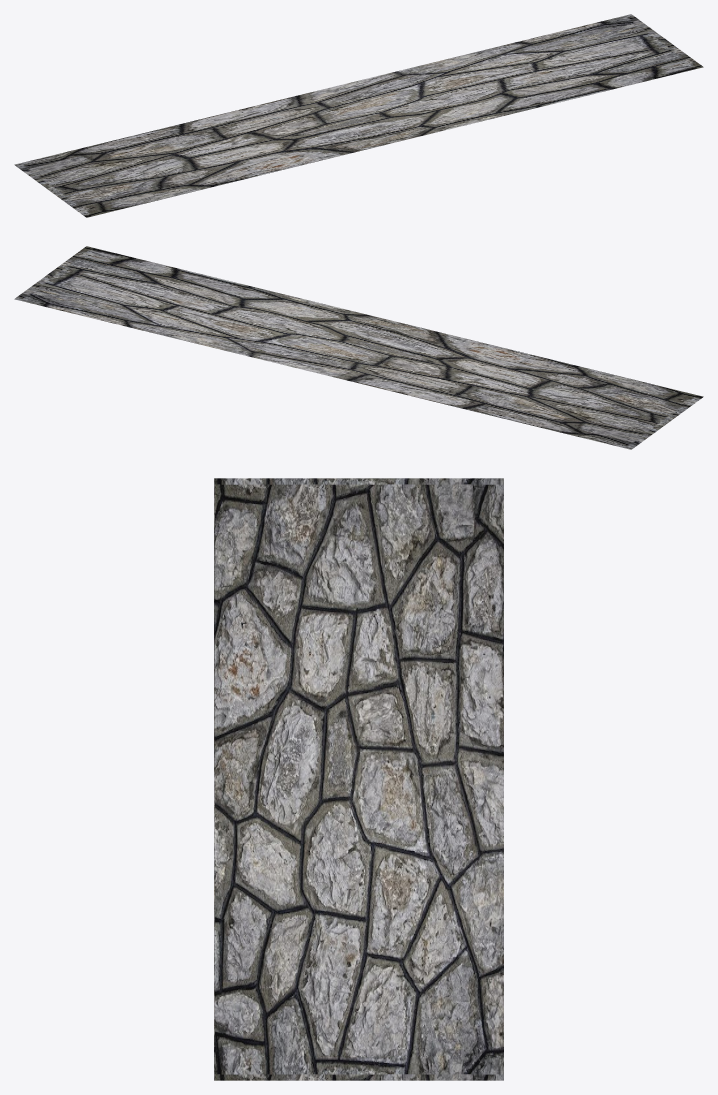
The model's file is camino.obj.
The picture shows the model from 3 angles, top to bottom: view 1: azimuth 30°, elevation 25°; view 2: azimuth 150°, elevation 25°; view 3: azimuth 270°, elevation 25°; orthographic projection. The views are drawn at different scales.
Visible parts, largest first — view 1: pPlane2; view 2: pPlane2; view 3: pPlane2.
Boxes of the visible parts, x1,y1,x2,y2 form: pPlane2: (14, 14, 703, 217); pPlane2: (14, 246, 703, 449); pPlane2: (214, 478, 503, 1080).
Size of the model in its own units: 13.04 by 0 by 2.65.
1 material, 1 textured.
